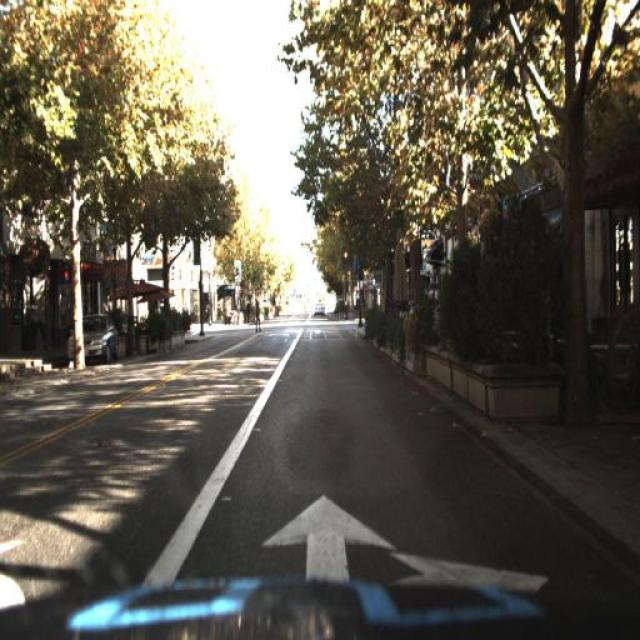car: (68, 308, 124, 362), (67, 307, 118, 362)
trafficLight: (224, 298, 246, 331), (252, 292, 264, 336), (252, 299, 262, 337)
trafficLight-RedLeft: (340, 237, 351, 274)
